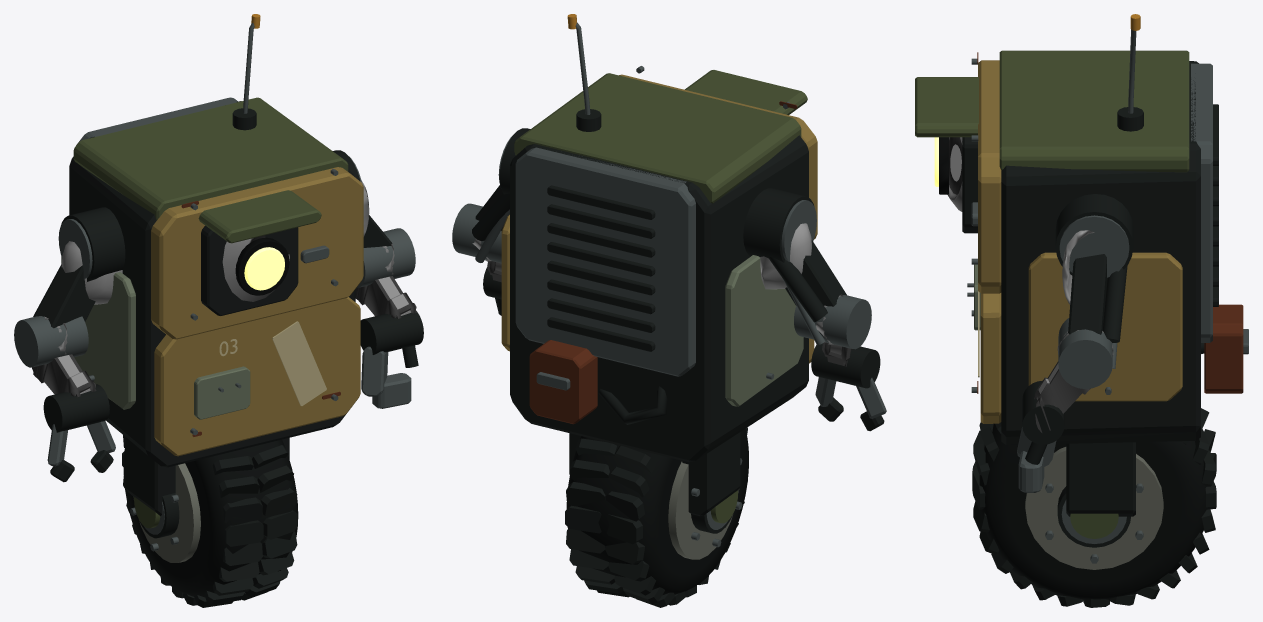
The model's file is KLONK.hi.glb.
3 renders of one model, left to right at view 1: azimuth 30°, elevation 25°; view 2: azimuth 150°, elevation 25°; view 3: azimuth 270°, elevation 25°, orthographic. The views are drawn at different scales.
Parts seen in each view (by area): view 1: body_geometry, wheel_geometry, armL_geometry, armR_geometry; view 2: body_geometry, wheel_geometry, armL_geometry, armR_geometry; view 3: body_geometry, wheel_geometry, armR_geometry.
Boxes of the visible parts, bbox=[...] form: body_geometry: bbox=[61, 14, 363, 534]; wheel_geometry: bbox=[122, 435, 298, 607]; armL_geometry: bbox=[14, 219, 122, 482]; armR_geometry: bbox=[350, 157, 423, 408]; body_geometry: bbox=[499, 14, 817, 529]; wheel_geometry: bbox=[565, 427, 748, 607]; armL_geometry: bbox=[760, 200, 886, 431]; armR_geometry: bbox=[452, 136, 511, 315]; body_geometry: bbox=[915, 14, 1248, 543]; wheel_geometry: bbox=[972, 408, 1216, 607]; armR_geometry: bbox=[1017, 215, 1129, 492].
Bounding box in the file's own units: 0.5875 × 0.804 × 0.4007.
2 materials, 1 textured.
